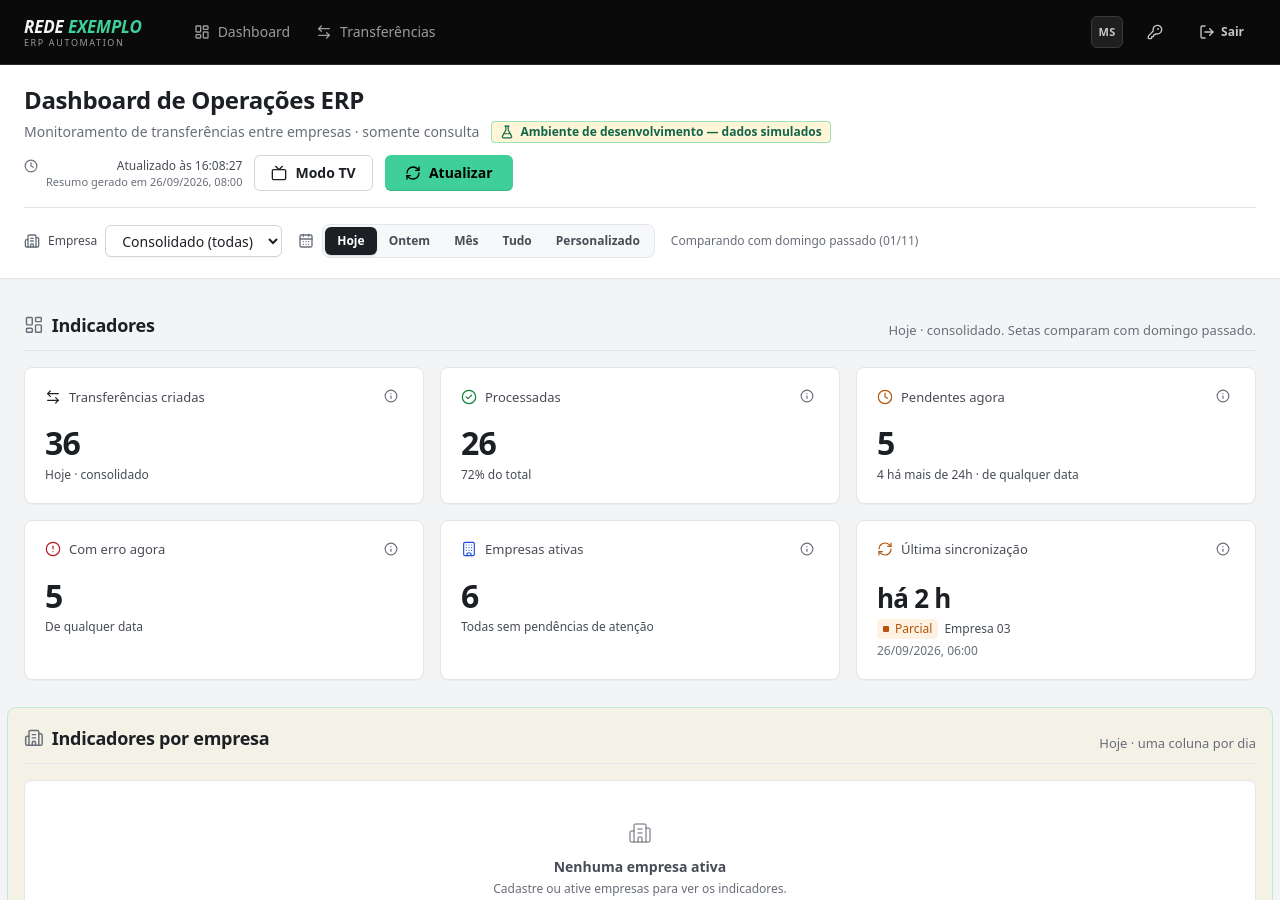
Test: DashboardPage — resumo operacional › Atualizar busca o resumo de novo e mostra os novos valores
The image size is (1280, 900).
Check: the text "36" is shown, box x1=45 y1=421 x2=80 y2=464
Click the button "Atualizar". click: (449, 173)
box: x1=385 y1=155 x2=513 y2=191
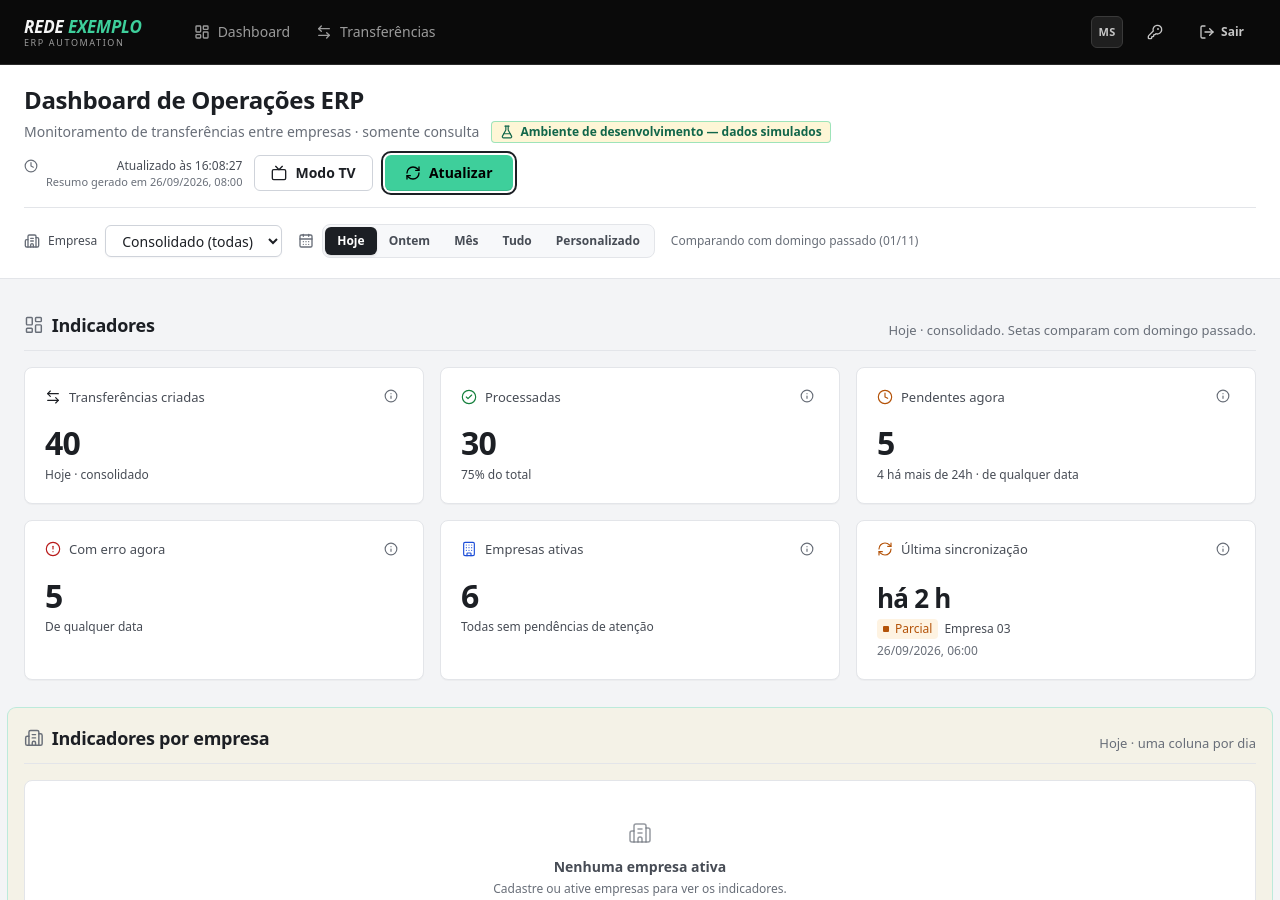
Check: the text "40" is shown, box x1=45 y1=421 x2=80 y2=464
